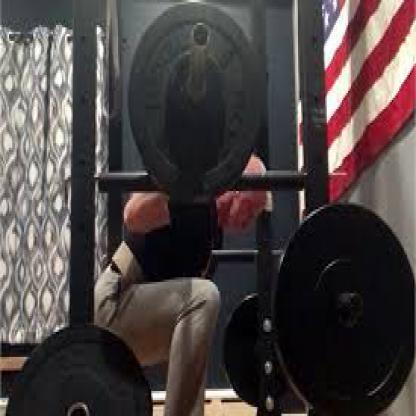Barbell: (124, 0, 275, 205)
